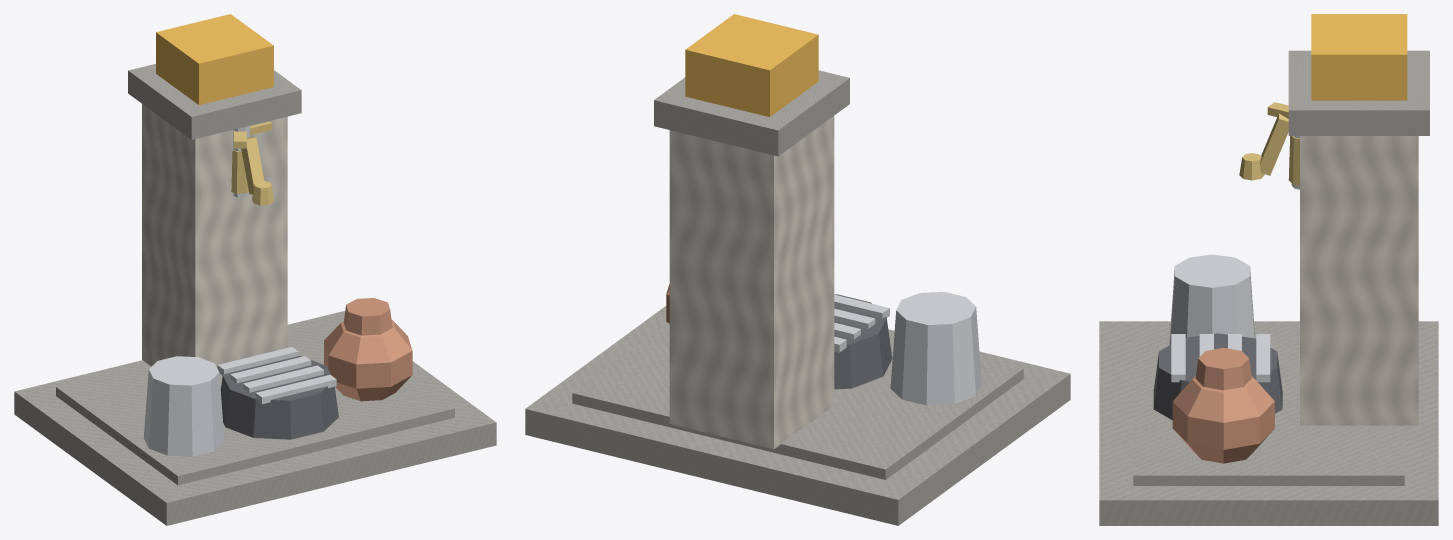
The model's file is indian-bazaar-street-and-temple-public-tap-be554ebe__36569.glb.
The picture shows the model from 3 angles, left to right: view 1: azimuth 30°, elevation 25°; view 2: azimuth 150°, elevation 25°; view 3: azimuth 270°, elevation 25°; orthographic projection. The views are drawn at different scales.
Parts seen in each view (by area): view 1: public-tap-stone, public-tap-plaster, public-tap-steel, public-tap-saffron, public-tap-terracotta, public-tap-charcoal, public-tap-brass; view 2: public-tap-stone, public-tap-plaster, public-tap-steel, public-tap-saffron, public-tap-charcoal; view 3: public-tap-stone, public-tap-plaster, public-tap-terracotta, public-tap-saffron, public-tap-steel, public-tap-charcoal, public-tap-brass.
Boxes of the visible parts, <box> form: public-tap-stone: <box>14,64,496,525</box>; public-tap-plaster: <box>142,104,287,388</box>; public-tap-steel: <box>143,126,336,456</box>; public-tap-saffron: <box>156,14,273,104</box>; public-tap-terracotta: <box>324,298,412,401</box>; public-tap-charcoal: <box>220,356,338,439</box>; public-tap-brass: <box>231,137,273,205</box>; public-tap-stone: <box>525,70,1070,525</box>; public-tap-plaster: <box>669,116,834,449</box>; public-tap-steel: <box>834,292,981,405</box>; public-tap-saffron: <box>685,14,818,116</box>; public-tap-charcoal: <box>834,294,892,389</box>; public-tap-stone: <box>1099,50,1438,525</box>; public-tap-plaster: <box>1300,136,1418,425</box>; public-tap-terracotta: <box>1172,347,1274,463</box>; public-tap-saffron: <box>1311,14,1407,100</box>; public-tap-steel: <box>1169,136,1299,382</box>; public-tap-charcoal: <box>1153,333,1282,420</box>; public-tap-brass: <box>1239,113,1299,185</box>.
Size of the model in its own units: 1.5 by 1.57 by 1.2.
Materials: 7 (2 with a texture image).
